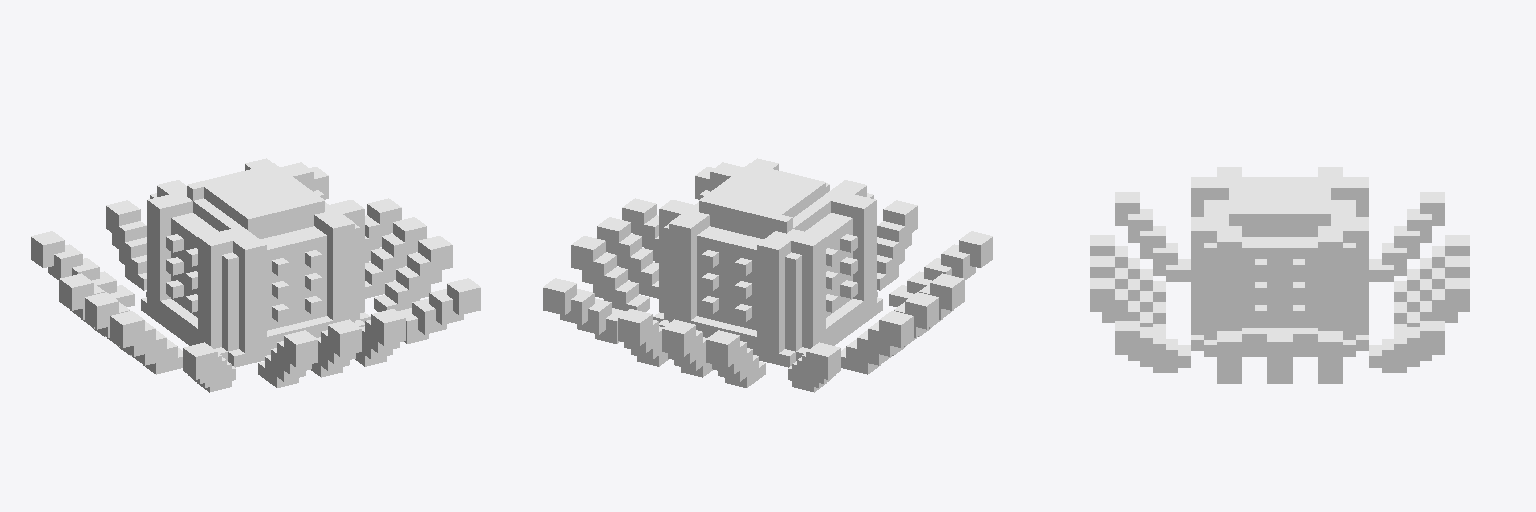
The model's file is fort2_lowLevel-1.obj.
The picture shows the model from 3 angles: view 1: azimuth 30°, elevation 25°; view 2: azimuth 150°, elevation 25°; view 3: azimuth 270°, elevation 25°; orthographic projection.
Visible parts, largest first — view 1: object 1; view 2: object 1; view 3: object 1.
Part boxes in pixels (bbox=[...]): object 1: bbox=[31, 158, 480, 392]; object 1: bbox=[543, 158, 992, 392]; object 1: bbox=[1090, 167, 1469, 383].
Size of the model in its own units: 3 by 1.1 by 3.